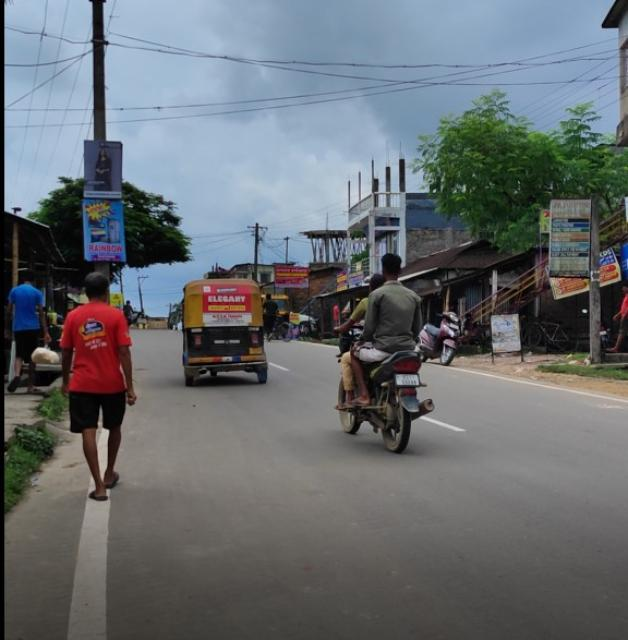licensePlate: (394, 374, 427, 388)
motorcycle: (329, 251, 440, 457)
withoutHelmet: (383, 255, 402, 282), (371, 273, 383, 290)
